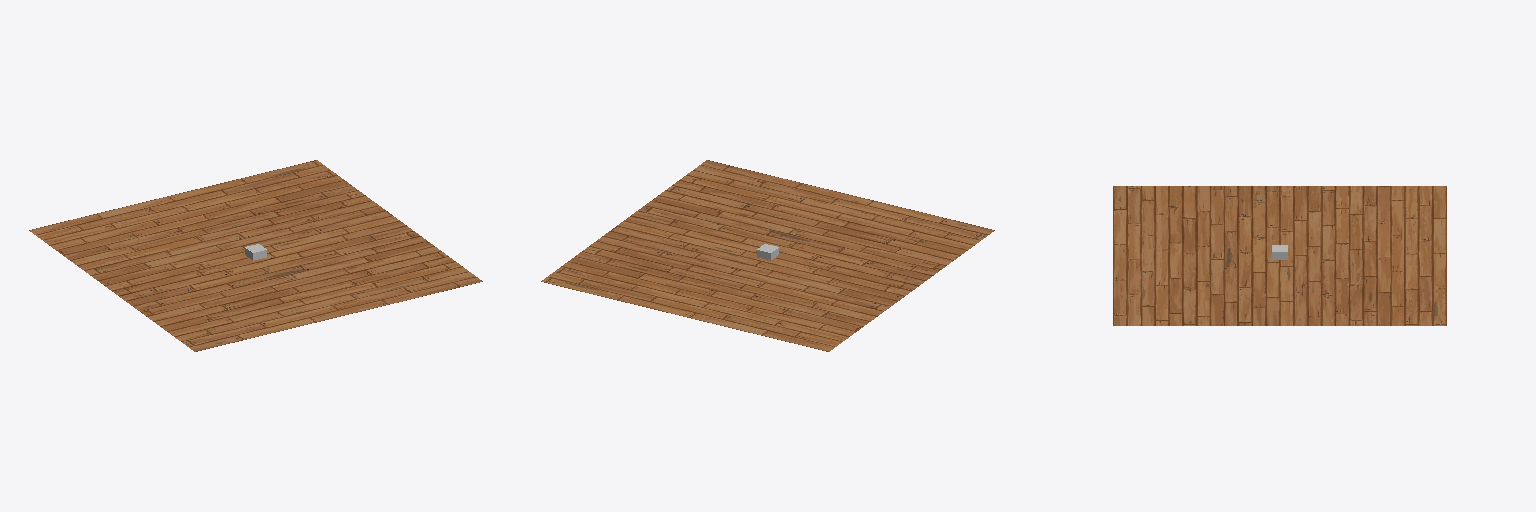
3 views of the same model, side by side, from view 1: azimuth 30°, elevation 25°; view 2: azimuth 150°, elevation 25°; view 3: azimuth 270°, elevation 25° (orthographic).
Visible parts, largest first — view 1: Plane; view 2: Plane; view 3: Plane.
Boxes of the visible parts, x1,y1,x2,y2 form: Plane: [29, 160, 482, 351]; Plane: [541, 160, 994, 351]; Plane: [1113, 186, 1446, 325].
Size of the model in its own units: 40 by 2 by 40.
Materials: 2 (1 with a texture image).